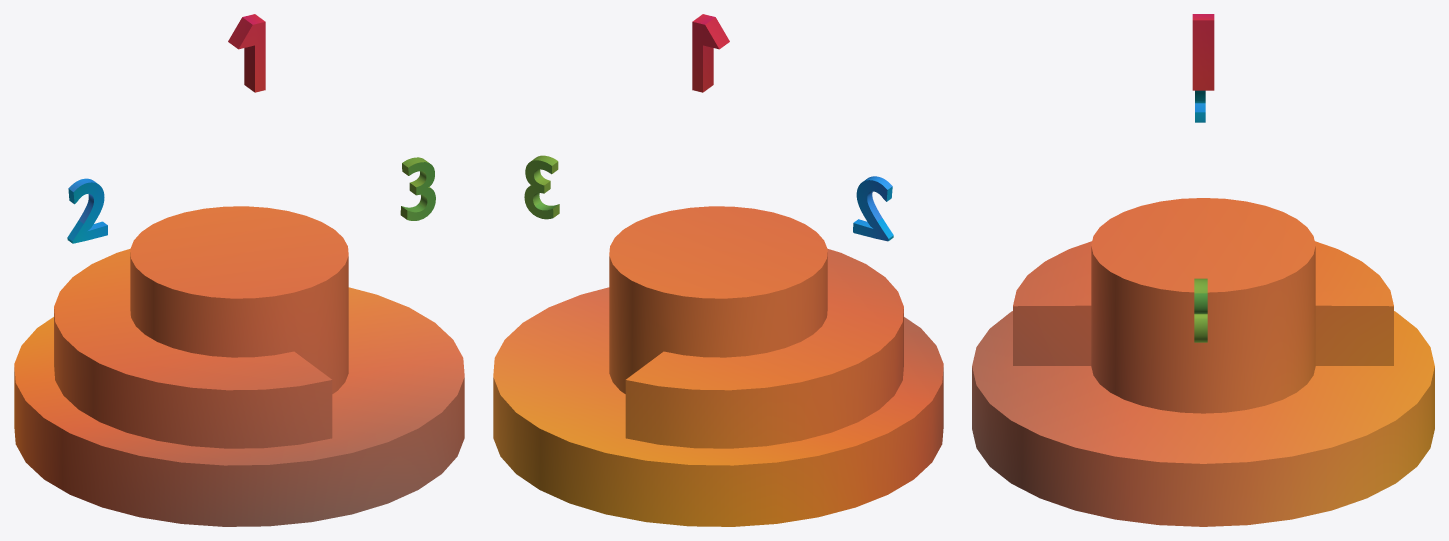
The model's file is CenaDeVitoria.fbx.
3 renders of one model, left to right at view 1: azimuth 30°, elevation 25°; view 2: azimuth 150°, elevation 25°; view 3: azimuth 270°, elevation 25°, orthographic. The views are drawn at different scales.
Visible parts, largest first — view 1: Podium, Primeiro, Segundo, Text; view 2: Podium, Primeiro, Segundo, Text; view 3: Podium, Primeiro, Text.
Boxes of the visible parts, box(x1,y1,x2,y2) form: Podium: box(14, 206, 464, 526); Primeiro: box(228, 14, 265, 92); Segundo: box(67, 178, 107, 243); Text: box(400, 157, 435, 220); Podium: box(493, 206, 943, 526); Primeiro: box(692, 14, 729, 92); Segundo: box(853, 176, 893, 241); Text: box(524, 155, 559, 219); Podium: box(972, 198, 1434, 526); Primeiro: box(1192, 14, 1214, 90); Text: box(1194, 278, 1207, 342).
Size of the model in its own units: 989 by 989 by 989.
